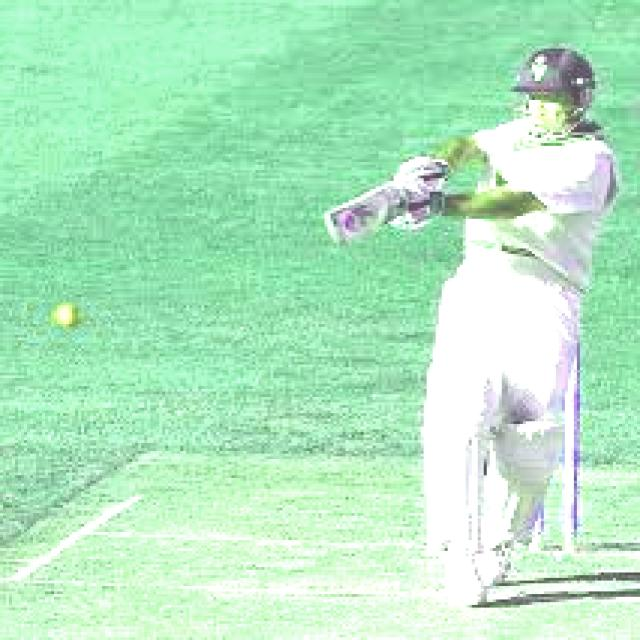toe: (317, 209, 354, 250)
